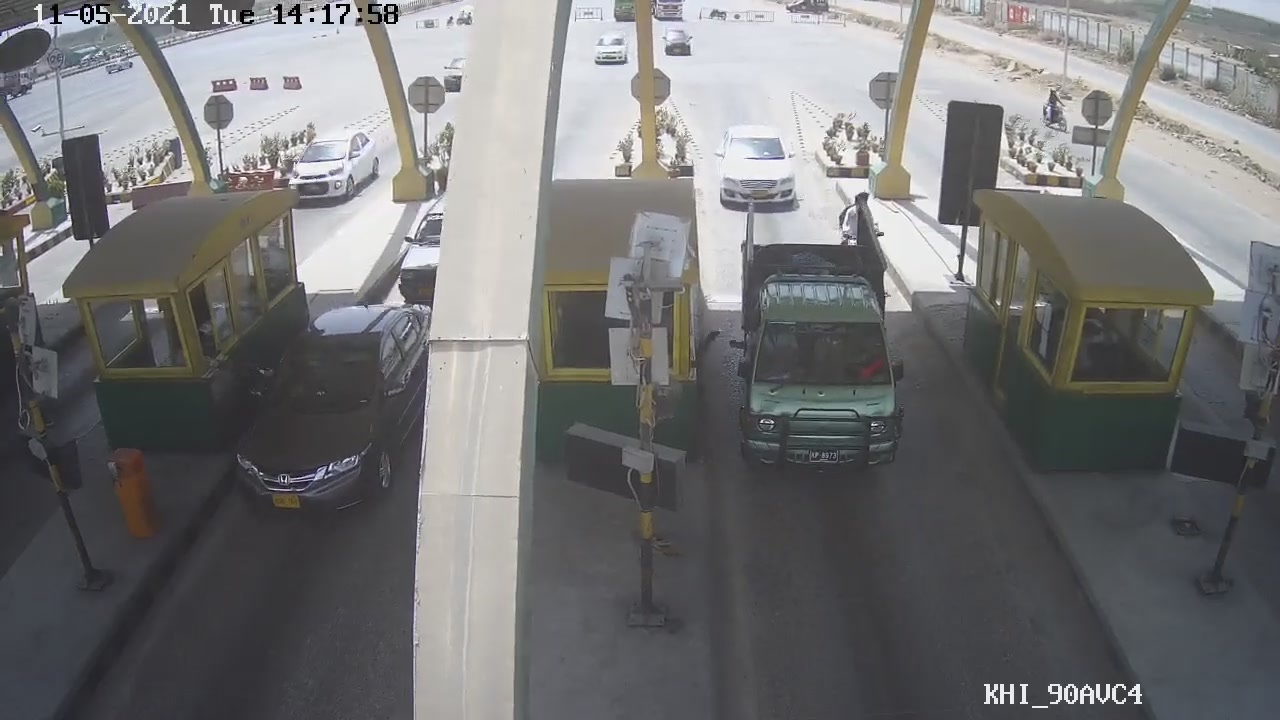F1: (734, 195, 906, 478)
